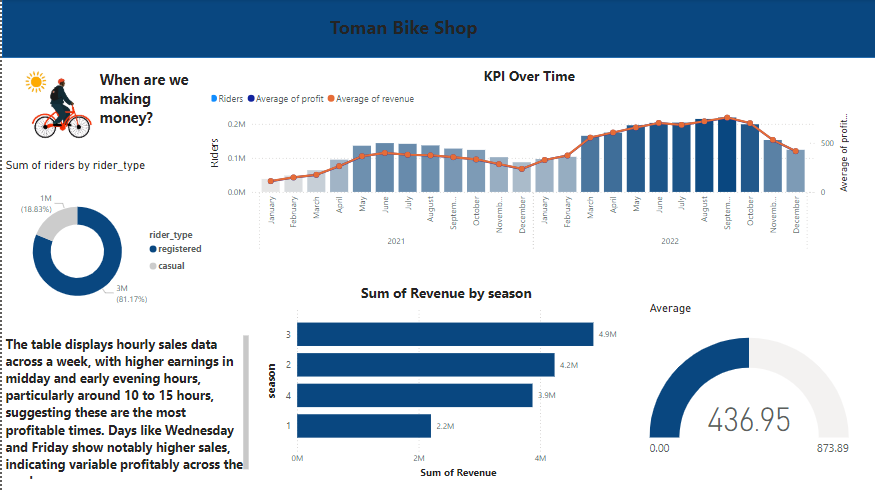

What the dashboard file says about the page in this screenshot:
{"tool":"powerbi","page":{"name":"Page 1","canvas":[1280,720],"ordinal":0},"visuals":[{"type":"shape","box":[0,0,1280.5,86.3],"z":0},{"type":"clusteredBarChart","title":"Sum of Revenue by season","fields":{"Category":["Query1.season"],"Y":["Sum(Query1.revenue)"]},"box":[381.9,416.3,535.9,291.7],"z":1000},{"type":"lineClusteredColumnComboChart","title":"KPI Over Time","fields":{"Category":["Query1.dteday.Variation.Date Hierarchy.Year","Query1.dteday.Variation.Date Hierarchy.Month","Query1.dteday.Variation.Date Hierarchy.Day"],"Y":["Sum(Query1.riders)"],"Y2":["Avg(Query1.profit)","Avg(Query1.revenue)"]},"box":[298.3,98.3,945.7,278.6],"z":2000},{"type":"cardVisual","fields":{"Data":["Min(Query1.riders)"]},"box":[9.8,86.9,149.1,139.3],"z":3000},{"type":"gauge","title":"Average ","fields":{"Y":["Avg(Query1.revenue)"]},"box":[942.4,442.5,301.6,265.5],"z":4000},{"type":"textbox","box":[137.7,98.3,168.8,95.1],"z":5000},{"type":"donutChart","fields":{"Category":["Query1.rider_type"],"Y":["Sum(Query1.riders)"]},"box":[0,232.7,306.5,254],"z":6000},{"type":"textbox","box":[0,487.3,365.9,219.5],"z":7000},{"type":"textbox","box":[335.1,17.6,538.5,55.6],"z":8000}]}

Visuals, with their boxes in screenshot pixels (x1, y1, x2, y2), scaled from the page's 1280x720 canvas onto the 875x490 screenshot:
shape: <region>0, 0, 874, 59</region>
"Sum of Revenue by season" clusteredBarChart: <region>261, 283, 627, 482</region>
"KPI Over Time" lineClusteredColumnComboChart: <region>204, 67, 850, 257</region>
cardVisual - Min(Query1.riders): <region>7, 59, 109, 154</region>
"Average " gauge: <region>644, 301, 850, 482</region>
textbox: <region>94, 67, 210, 132</region>
donutChart - Query1.rider_type x Sum(Query1.riders): <region>0, 158, 210, 331</region>
textbox: <region>0, 332, 250, 481</region>
textbox: <region>229, 12, 597, 50</region>
